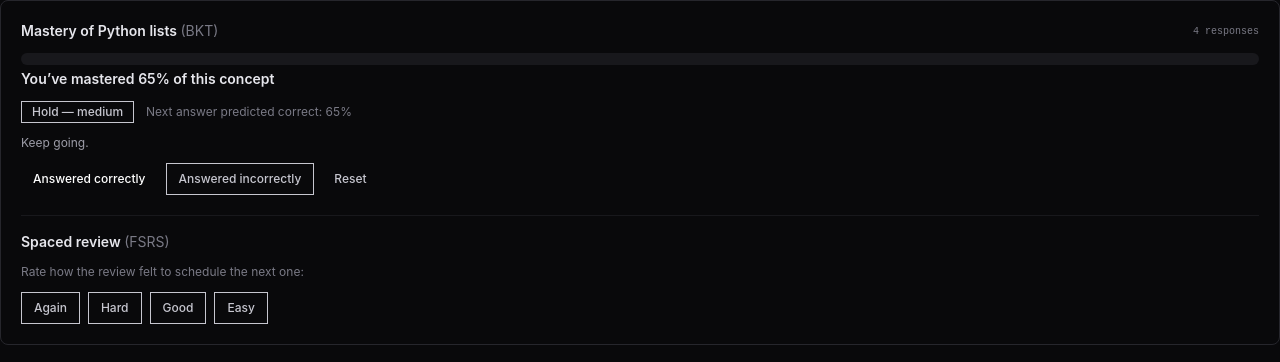
Test: renders a mastery estimate and raises it when a correct answer is added
The image size is (1280, 362).
Expected: the text "You’ve mastered 65% of this concept" is shown, [21,70,274,87]
Click the button "Answered correctly": coordinates (89, 179) [21,163,158,195]
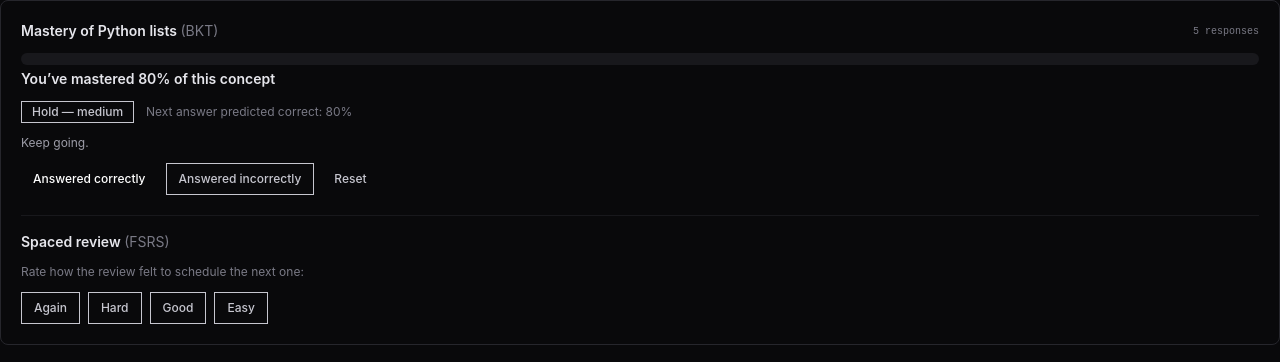
Expected: the text "You’ve mastered 80% of this concept" is shown, [21,70,275,87]
